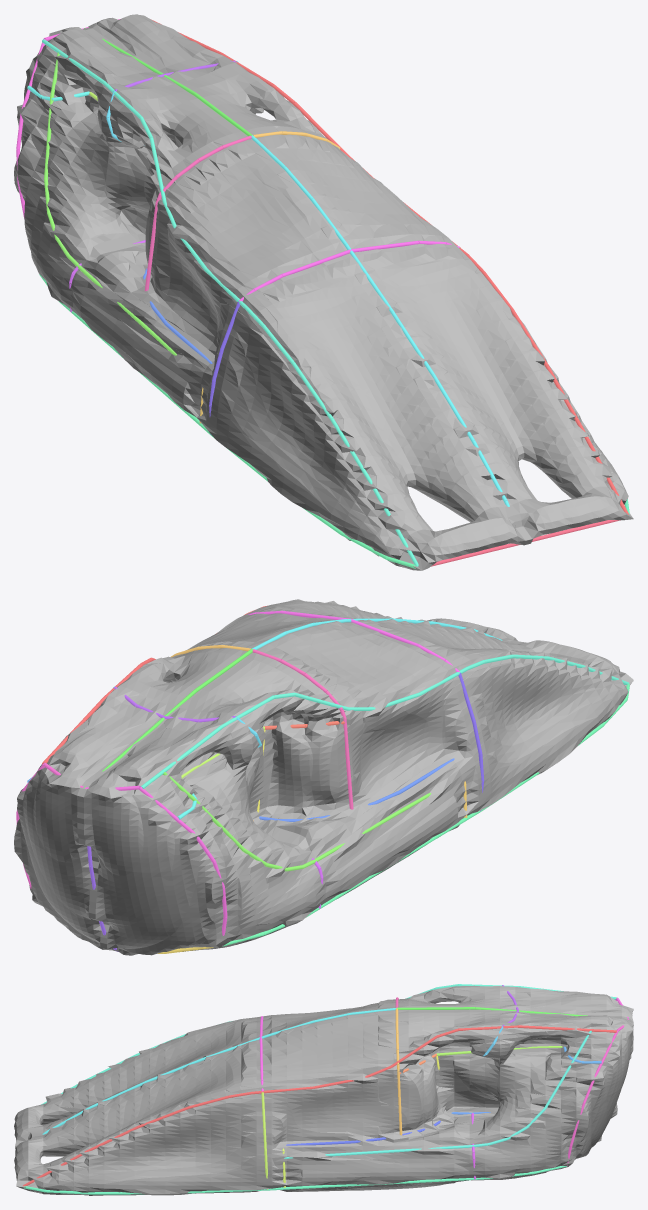
Rendered from t2f_hand_vacuum.gltf.
3 renders of one model, top to bottom at view 1: azimuth 30°, elevation 25°; view 2: azimuth 150°, elevation 25°; view 3: azimuth 270°, elevation 25°, orthographic. The views are drawn at different scales.
Bounding box in the file's own units: 0.3334 × 0.2664 × 0.9336.
